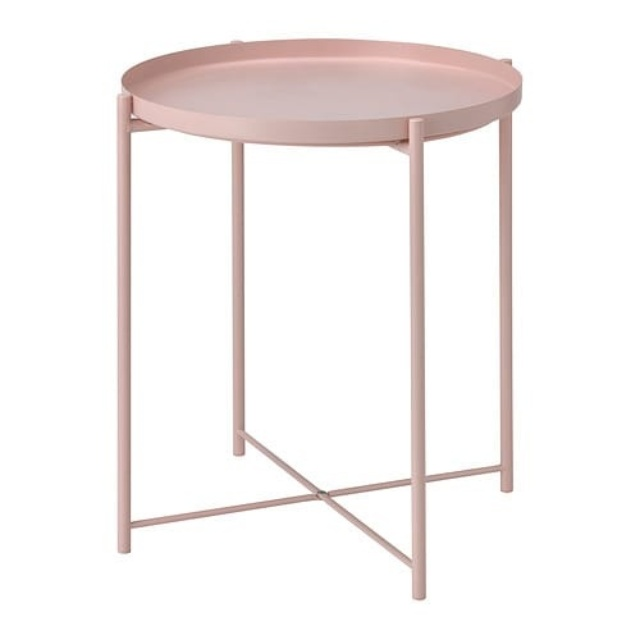obstacle: (118, 38, 521, 598)
